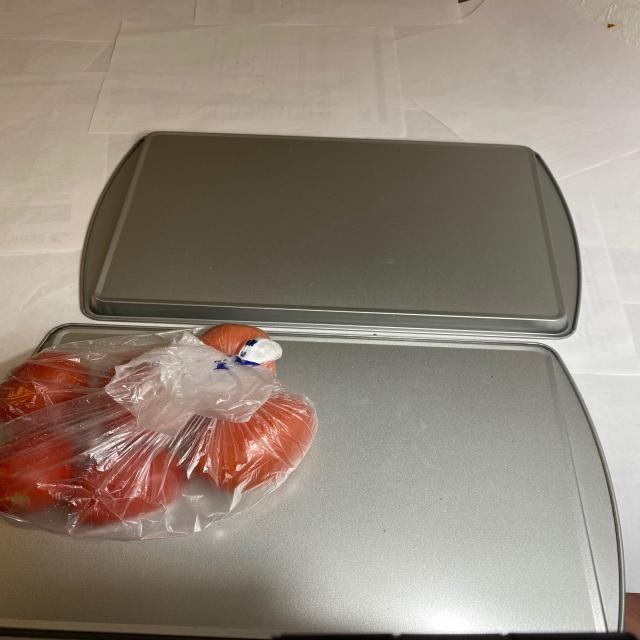tomato: (8, 322, 309, 537)
